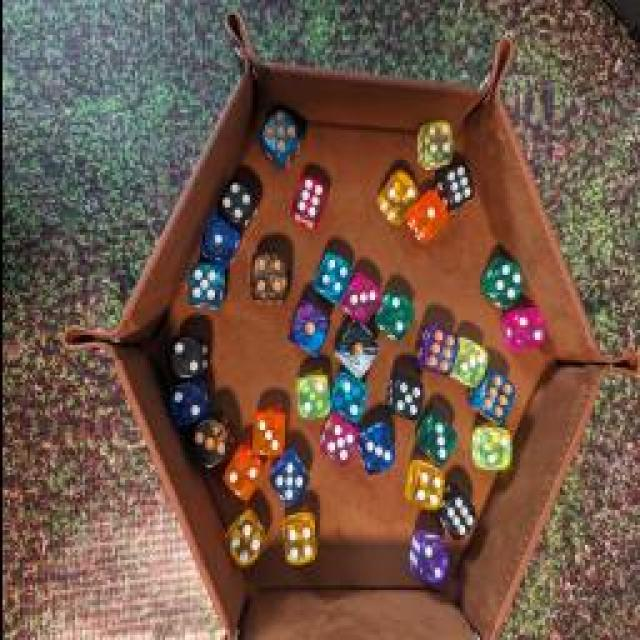dice_1: (284, 295, 334, 365), (198, 209, 242, 269), (332, 322, 378, 376), (409, 192, 449, 246)
dice_2: (378, 169, 424, 231), (404, 526, 448, 586), (218, 448, 262, 508), (497, 302, 545, 356), (166, 376, 212, 432), (161, 334, 211, 384), (372, 288, 418, 342), (290, 374, 335, 421), (468, 429, 514, 471), (329, 376, 369, 422)
dice_3: (182, 410, 236, 475), (338, 264, 384, 328), (444, 335, 488, 390), (356, 425, 396, 483), (244, 406, 288, 456), (415, 418, 455, 462)
dice_4: (219, 509, 269, 569), (480, 251, 525, 311), (246, 255, 289, 310), (312, 252, 356, 300), (416, 115, 454, 170), (406, 458, 444, 512), (216, 181, 256, 231), (276, 518, 319, 564)
dice_5: (381, 366, 424, 426), (261, 108, 301, 172), (269, 448, 311, 504), (185, 258, 225, 314), (315, 422, 357, 466)
dice_6: (284, 166, 331, 232), (468, 368, 518, 428), (416, 319, 456, 381), (432, 158, 476, 214), (436, 491, 476, 541)
